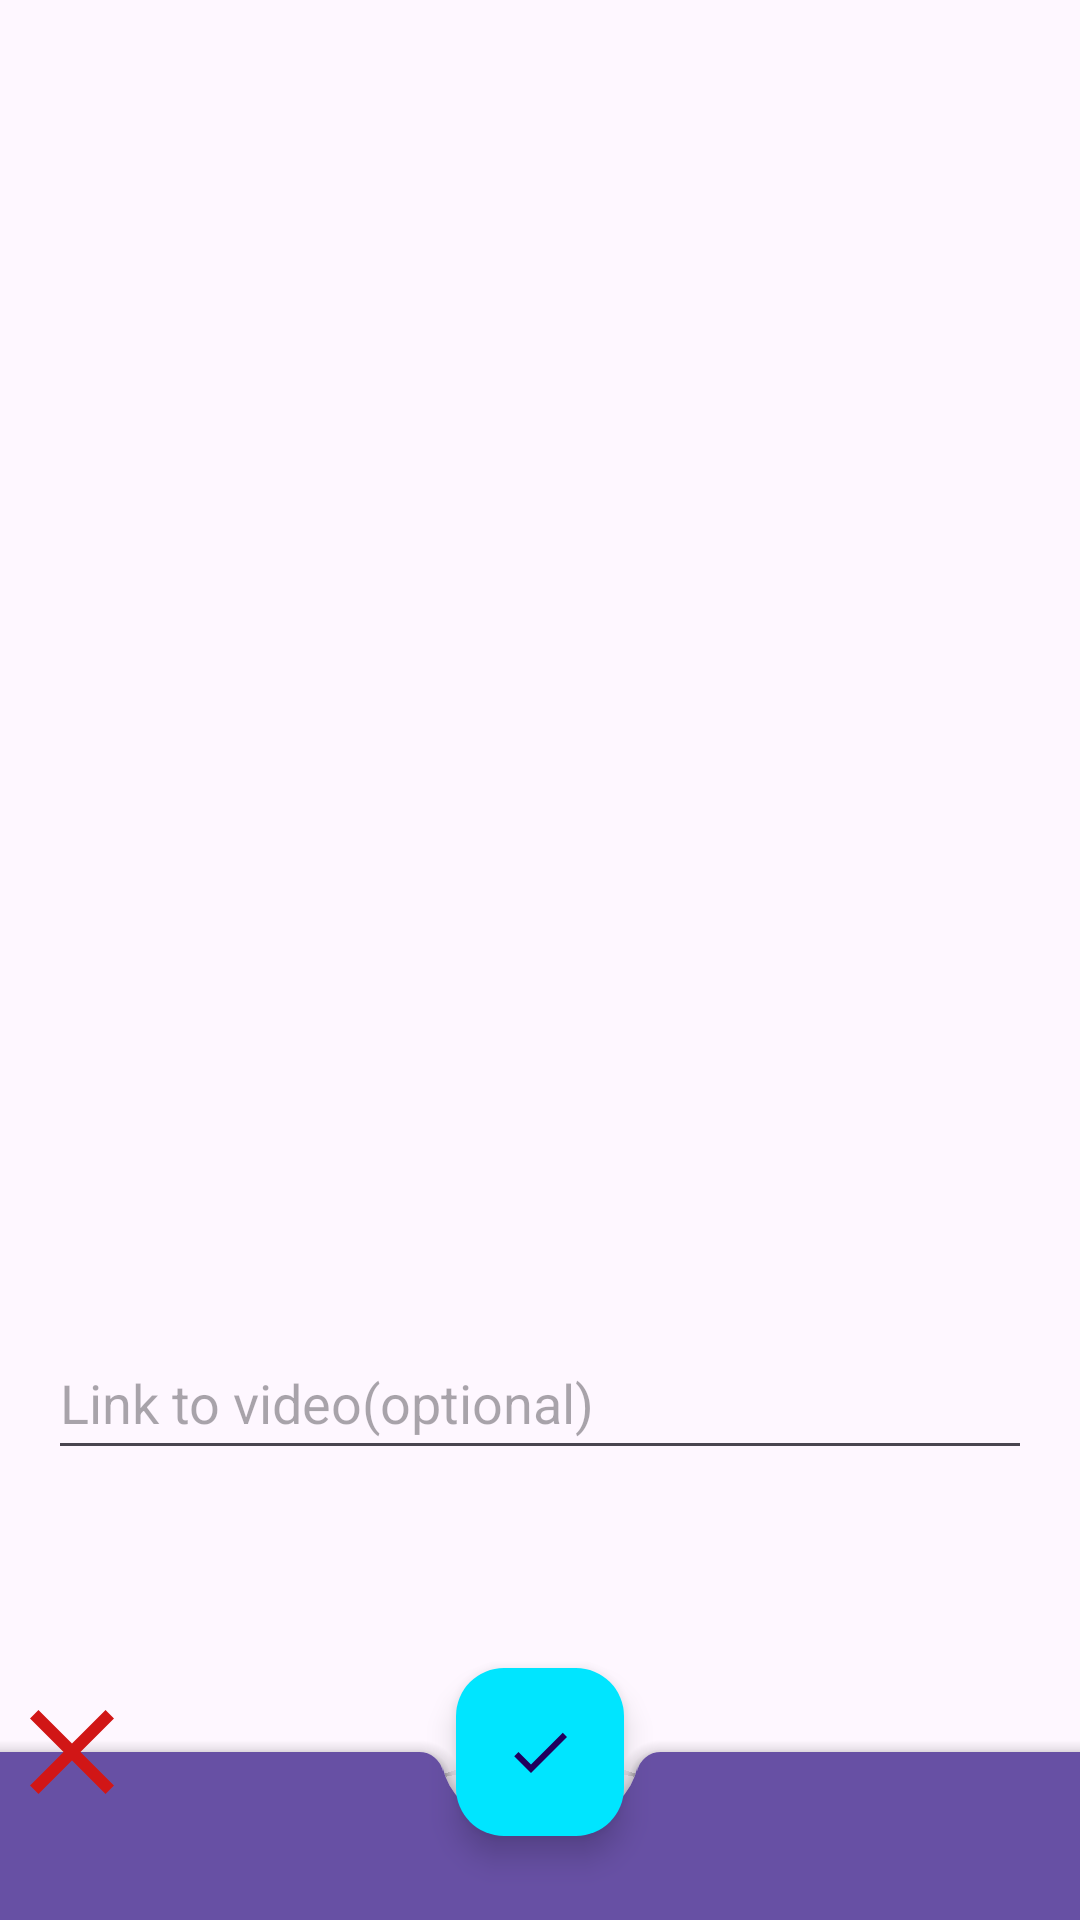

Icon click points for this 1080w x 1920h phone screenshot, format point (x, y):
Cancel: point (72, 1752)
Save: point (540, 1752)
